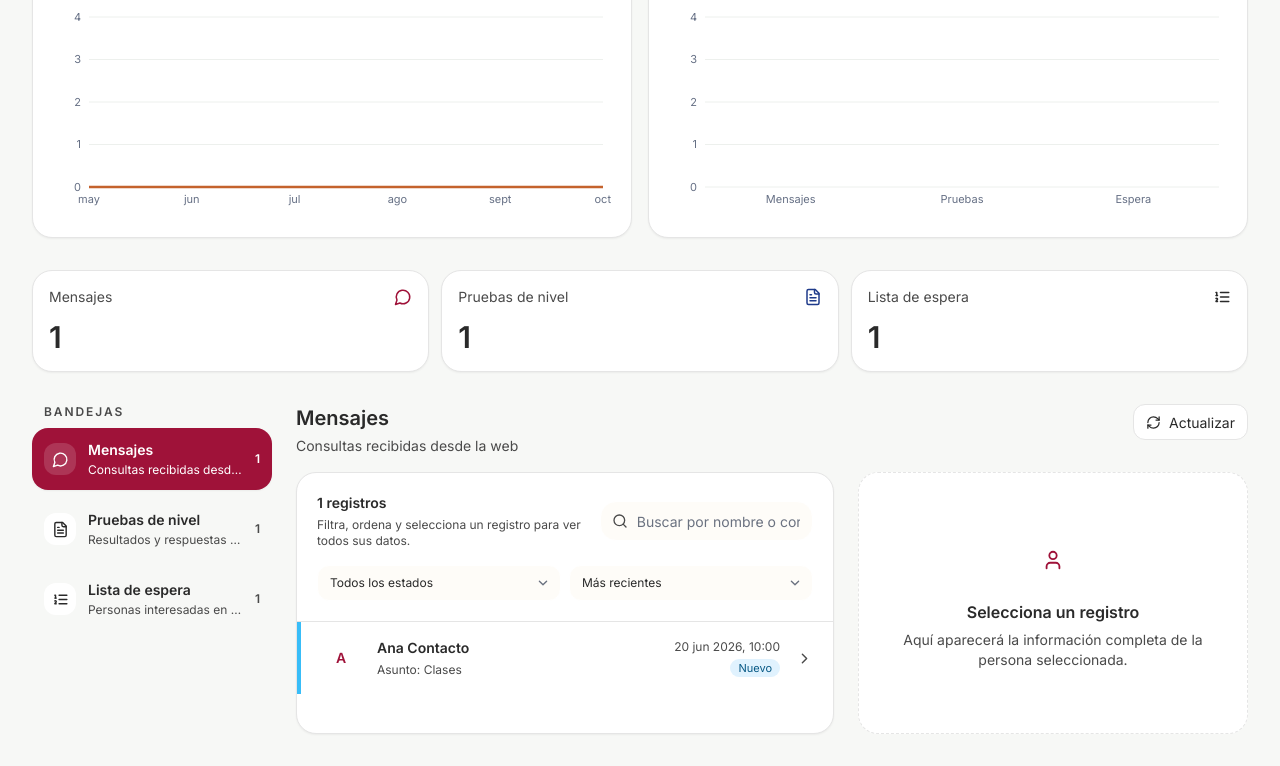
EsterDashboard › muestra puntuación, nivel y respuestas de las pruebas
(page scrolled)
Click the button "Pruebas de nivel Resultados y respuestas completas 1" at {"x": 152, "y": 529}, box [32, 498, 272, 560]
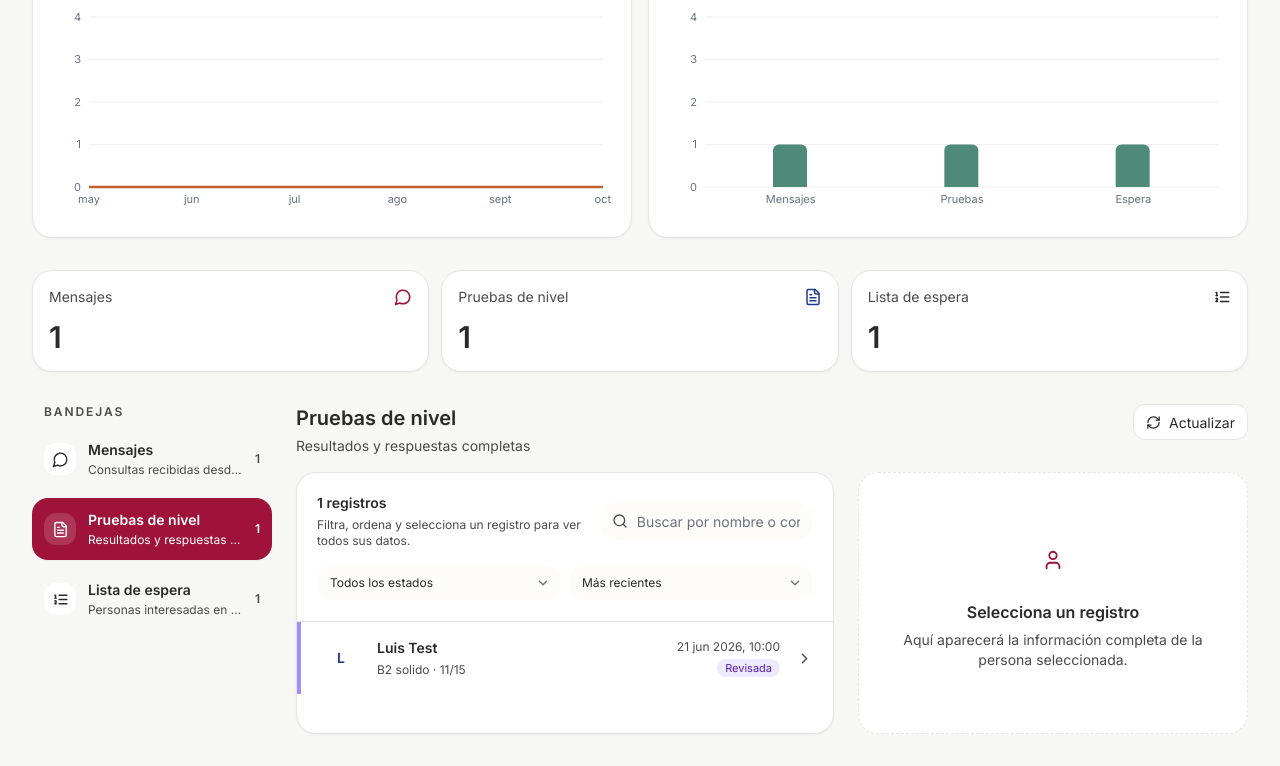
Click the button "L Luis Test B2 solido · 11/15 21 jun 2026, 10:00 Revisada" at {"x": 407, "y": 648}, box [297, 622, 833, 694]
(page scrolled)
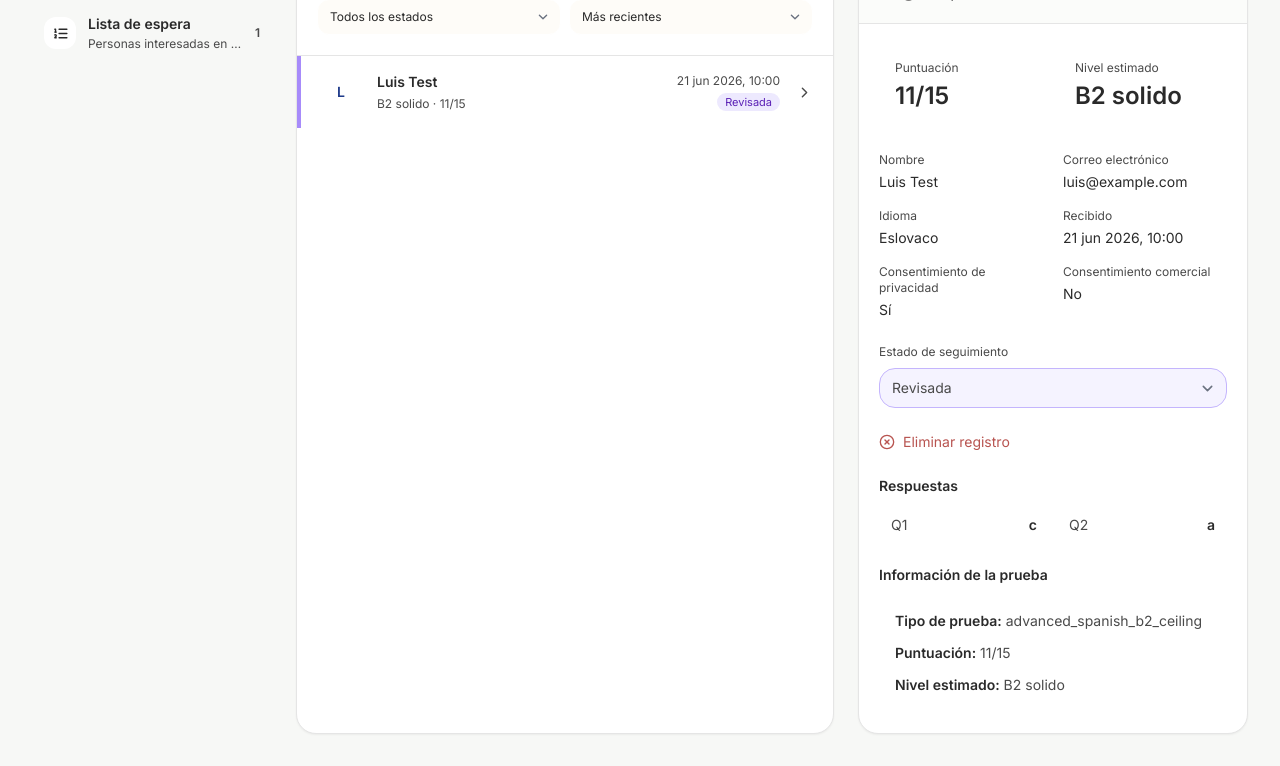
Result: the 1st text "11/15" is shown at [895, 81, 949, 110]
Result: the 1st text "B2 solido" is shown at [1075, 81, 1182, 110]
Result: the text "Q1" is shown at [891, 516, 907, 533]
